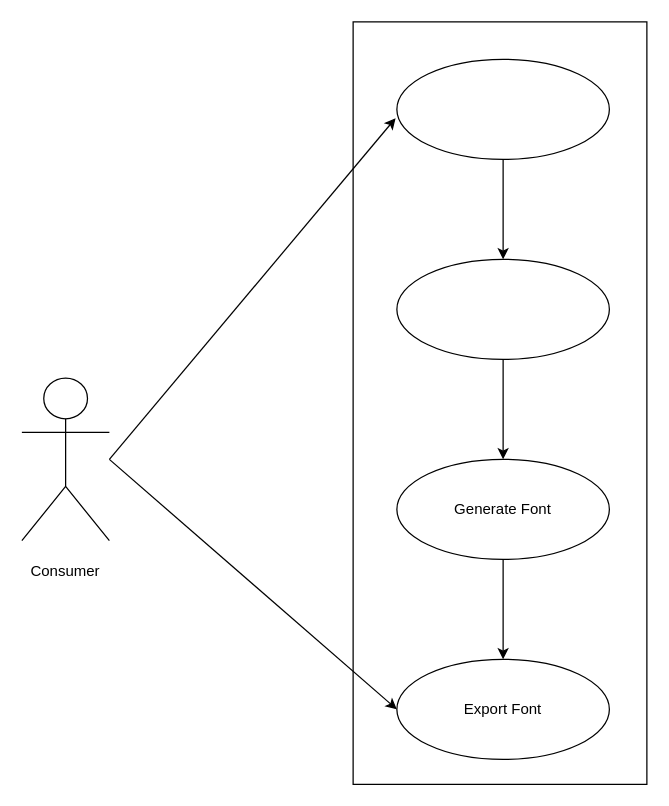
Some shapes in this 669 by 806 pixel diagram are drawn without their labels. Each missing label, with the centre of its shape:
"Input Gliphs" goes at (502,108).
"Match Alphabets/Patterns" goes at (502,308).
